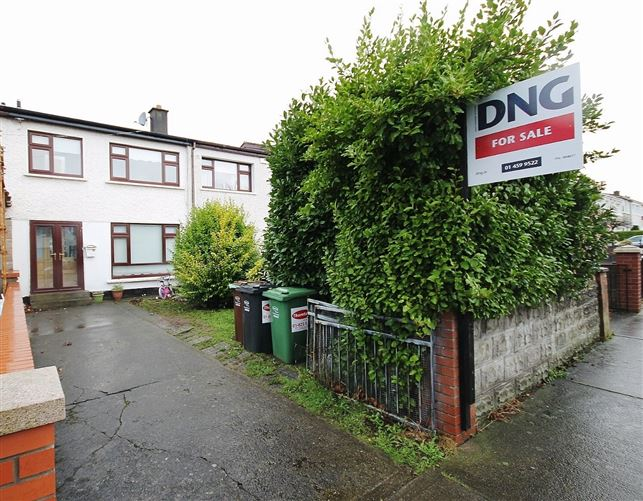property sign: (443, 62, 594, 189)
